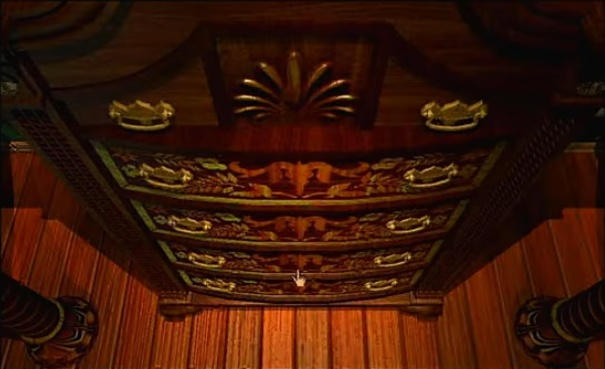Pointer: (288, 265, 312, 290)
